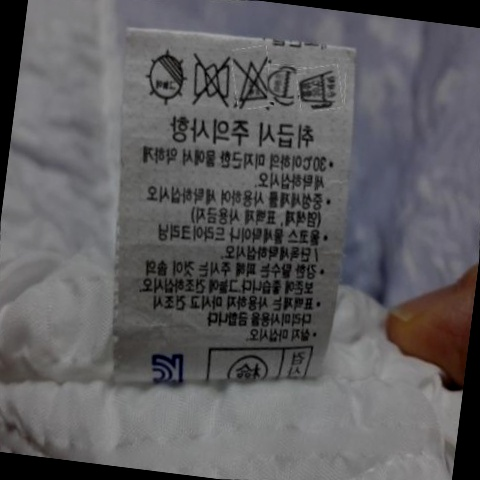DN_wring: (185, 52, 234, 106)
dry_clean: (267, 64, 301, 102)
hand_wash: (294, 62, 343, 109)
non_chlorine_bleach: (232, 53, 273, 107)
shade_dry: (139, 47, 191, 108)
